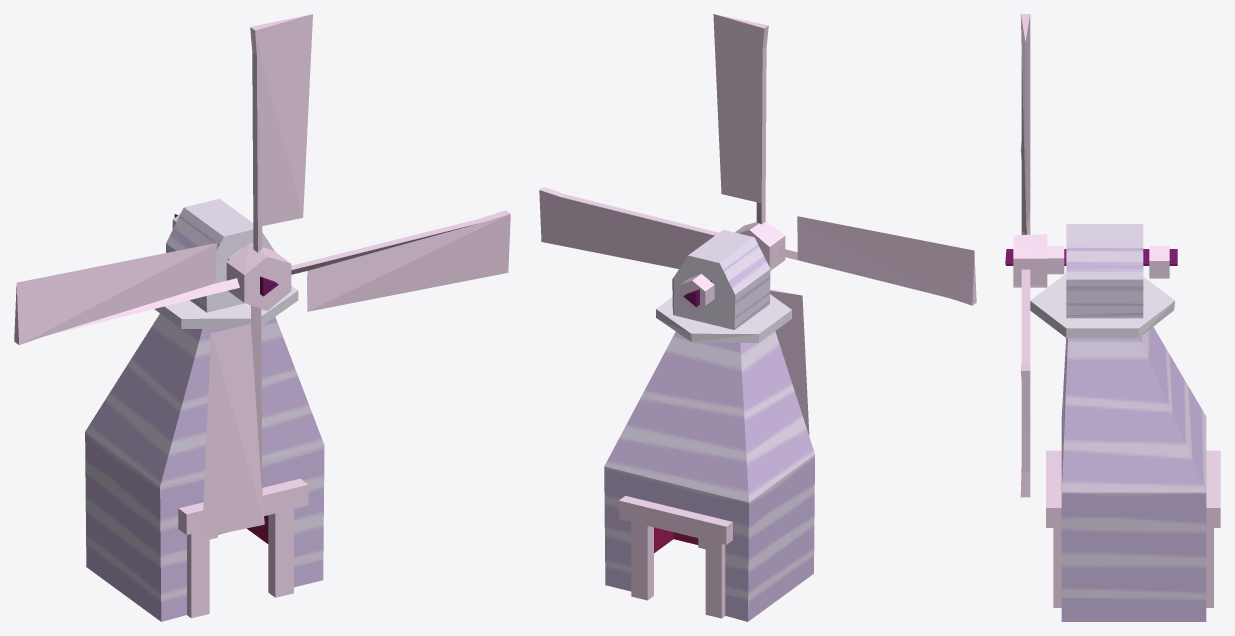
Rendered from windmill1.obj.
3 renders of one model, left to right at view 1: azimuth 30°, elevation 25°; view 2: azimuth 150°, elevation 25°; view 3: azimuth 270°, elevation 25°, orthographic. The views are drawn at different scales.
Visible parts, largest first — view 1: polySurface3; view 2: polySurface3; view 3: polySurface3.
Boxes of the visible parts, x1,y1,x2,y2 form: polySurface3: [14, 14, 510, 621]; polySurface3: [539, 14, 976, 621]; polySurface3: [1005, 14, 1220, 621].
Size of the model in its own units: 531 by 608 by 209.
